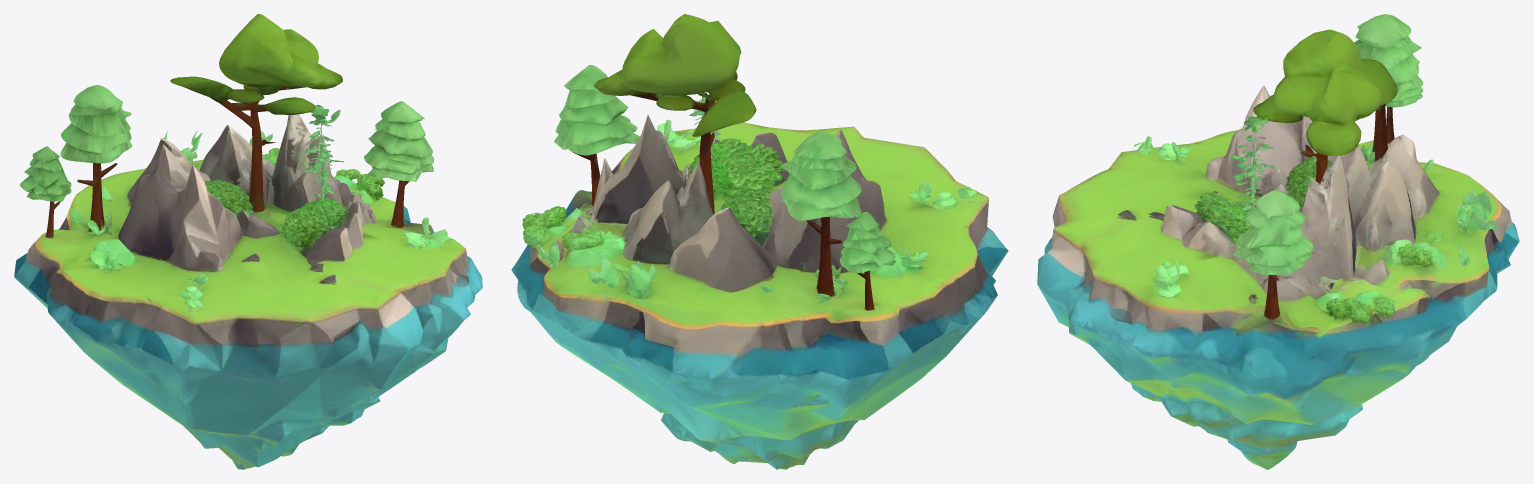
The model's file is floating-island.glb.
3 renders of one model, left to right at view 1: azimuth 30°, elevation 25°; view 2: azimuth 150°, elevation 25°; view 3: azimuth 270°, elevation 25°, orthographic. The views are drawn at different scales.
Bounding box in the file's own units: 1.82 × 1.9 × 1.87.
Materials: 1 (1 with a texture image).
